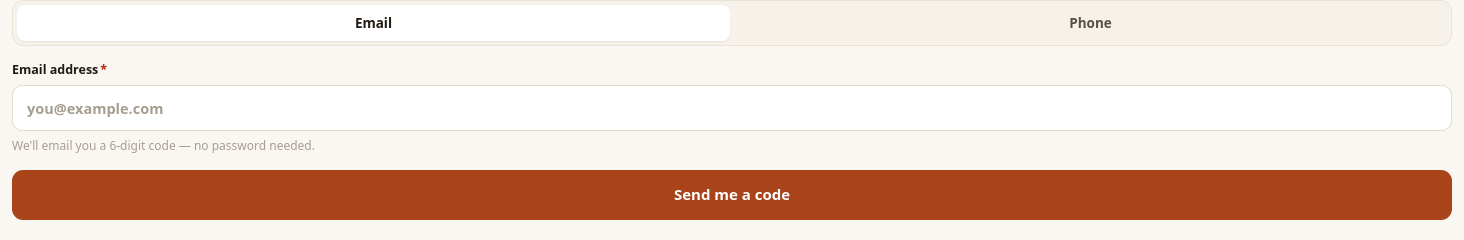
Test: IdentifierForm › blocks submit and names the digit count for a short Ghana number
Step 1. Click the tab "Phone" → coordinates (1090, 23), box [734,5,1447,41]
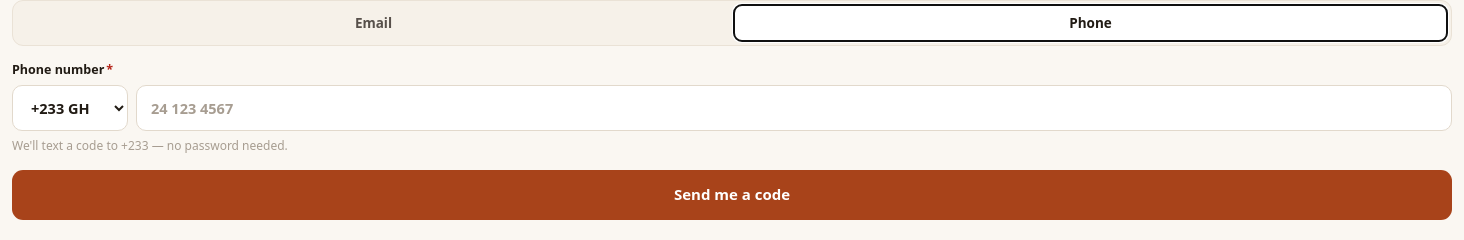
Step 2. Type "24123" into the field labelled "Phone number*" → coordinates (794, 108), box [136,85,1452,131]
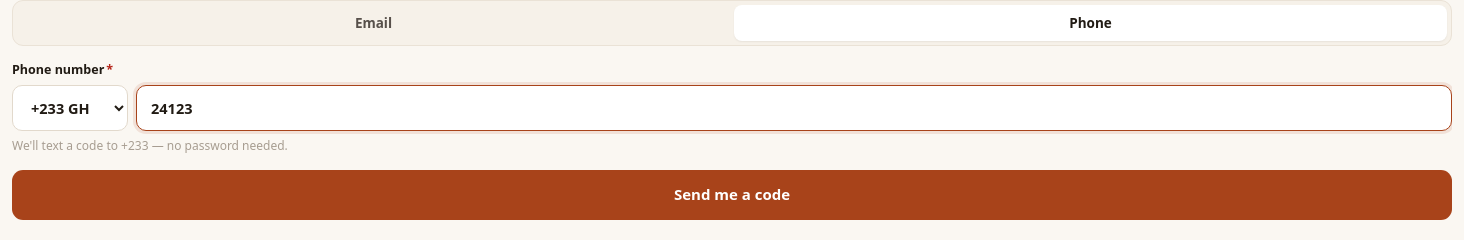
Step 3. Click the button "Send me a code" → coordinates (732, 195), box [12,170,1452,220]
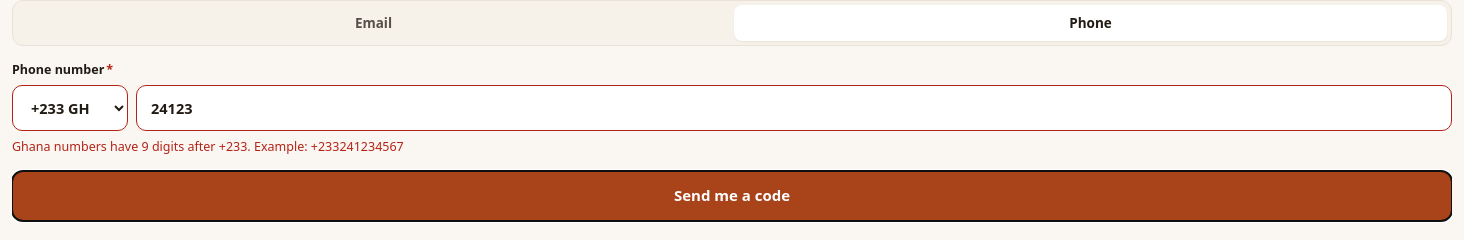
Result: the message reads "Ghana numbers have 9 digits after +233. Example: +233241234567" at [12,138,404,155]
